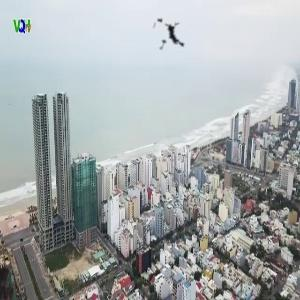drone: (137, 3, 204, 70)
